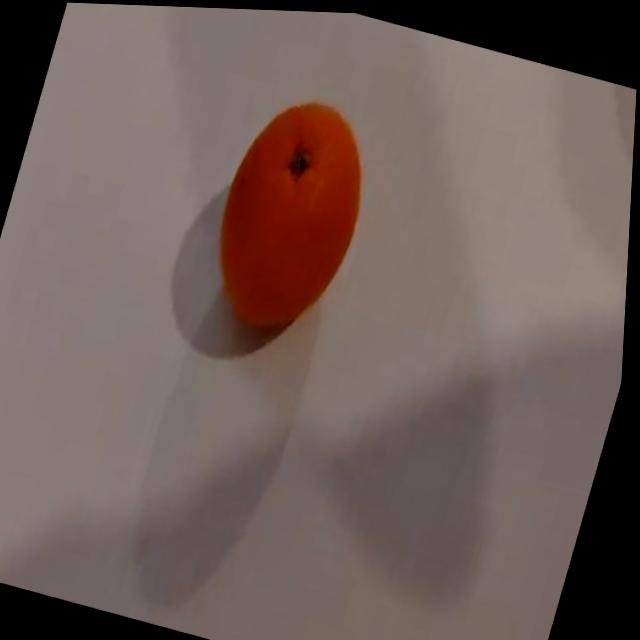Orange: (195, 81, 388, 344)
